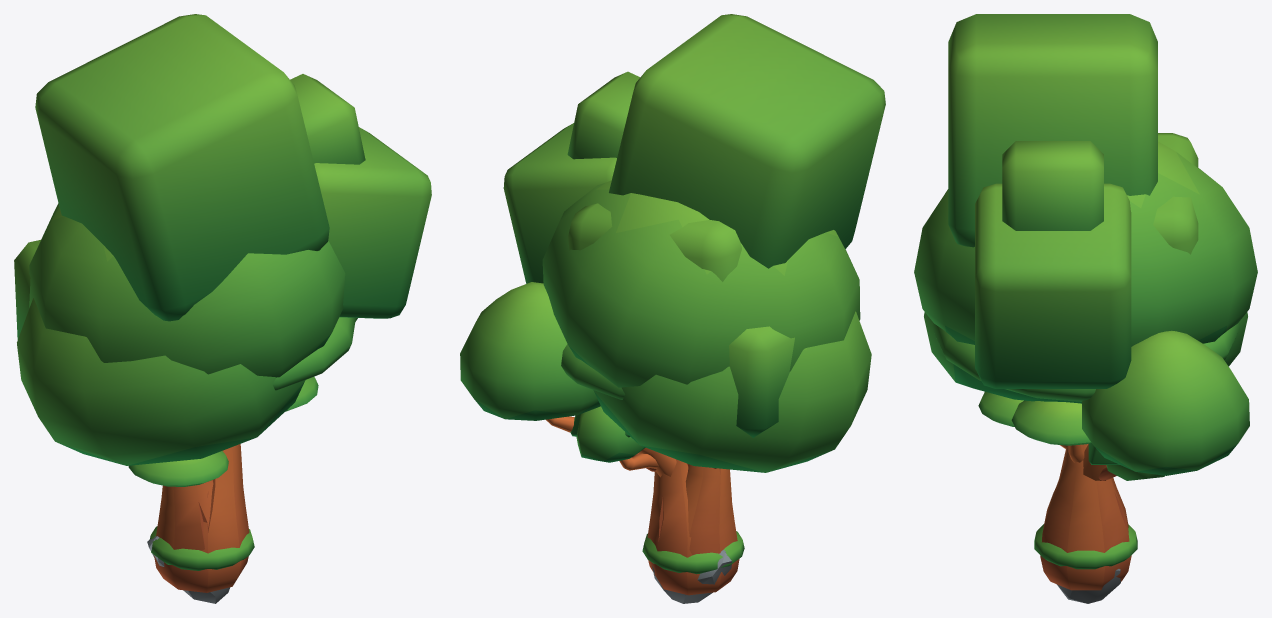
The model's file is forest.glb.
The picture shows the model from 3 angles, left to right: view 1: azimuth 30°, elevation 25°; view 2: azimuth 150°, elevation 25°; view 3: azimuth 270°, elevation 25°; orthographic projection. The views are drawn at different scales.
Parts seen in each view (by area): view 1: Tree_2_B_Color1, Tree_1_B_Color1, Tree_1_A_Color1, Tree_3_A_Color1, Bush_3_A_Color1, Tree_2_A_Color1; view 2: Tree_2_B_Color1, Tree_1_B_Color1, Tree_1_A_Color1, Tree_2_A_Color1, Tree_3_A_Color1, Bush_3_A_Color1, Rock_3_A_Color1; view 3: Tree_2_B_Color1, Tree_1_B_Color1, Tree_3_A_Color1, Tree_2_A_Color1, Tree_1_A_Color1, Bush_3_A_Color1, Rock_3_A_Color1, Tree_4_A_Color1.
Part boxes in pixels (x1=…): Tree_2_B_Color1: x1=35, y1=14, x2=431, y2=321; Tree_1_B_Color1: x1=29, y1=203, x2=357, y2=592; Tree_1_A_Color1: x1=17, y1=298, x2=305, y2=465; Tree_3_A_Color1: x1=128, y1=317, x2=355, y2=550; Bush_3_A_Color1: x1=149, y1=526, x2=254, y2=570; Tree_2_A_Color1: x1=14, y1=240, x2=40, y2=339; Tree_2_B_Color1: x1=503, y1=14, x2=885, y2=465; Tree_1_B_Color1: x1=460, y1=180, x2=860, y2=595; Tree_1_A_Color1: x1=576, y1=311, x2=871, y2=472; Tree_2_A_Color1: x1=568, y1=203, x2=794, y2=437; Tree_3_A_Color1: x1=561, y1=344, x2=737, y2=555; Bush_3_A_Color1: x1=642, y1=531, x2=744, y2=574; Rock_3_A_Color1: x1=652, y1=549, x2=731, y2=603; Tree_2_B_Color1: x1=948, y1=14, x2=1157, y2=388; Tree_1_B_Color1: x1=914, y1=141, x2=1257, y2=590; Tree_3_A_Color1: x1=931, y1=323, x2=1240, y2=487; Tree_2_A_Color1: x1=1153, y1=133, x2=1198, y2=254; Tree_1_A_Color1: x1=924, y1=312, x2=1247, y2=480; Bush_3_A_Color1: x1=1034, y1=524, x2=1137, y2=569; Rock_3_A_Color1: x1=1057, y1=569, x2=1120, y2=603; Tree_4_A_Color1: x1=1088, y1=443, x2=1119, y2=480.
Size of the model in its own units: 4.15 by 6.16 by 3.45.
1 material, 1 textured.
